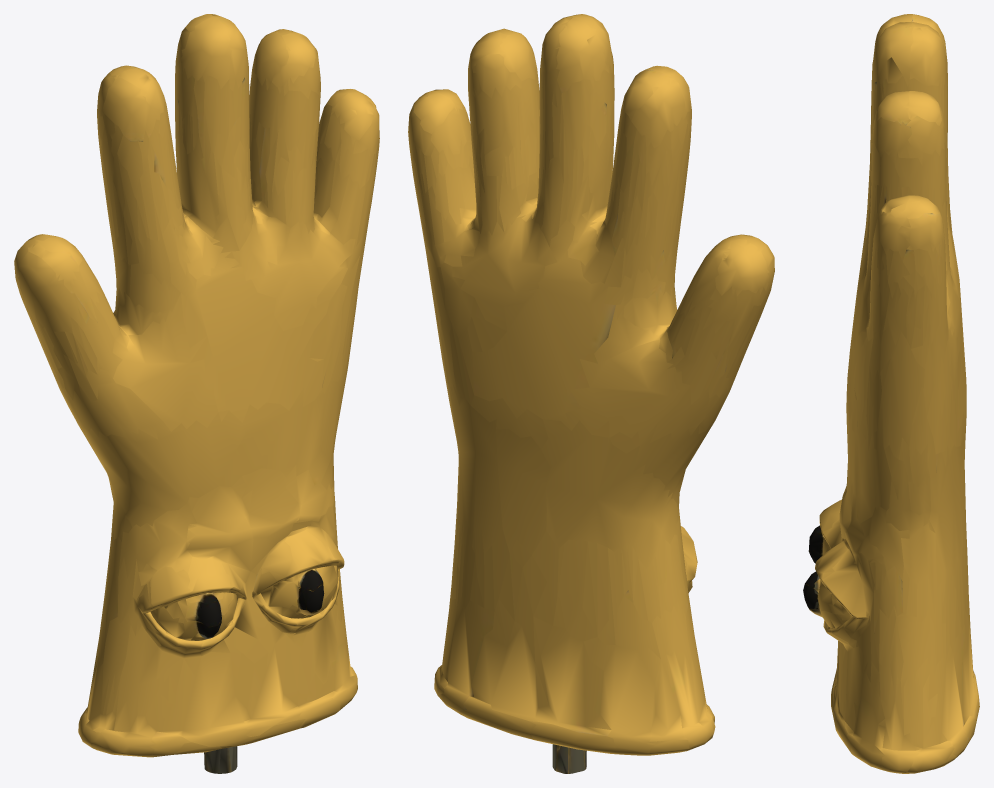
File: rubber_glove.glb
3 views of the same model, side by side, from view 1: azimuth 30°, elevation 25°; view 2: azimuth 150°, elevation 25°; view 3: azimuth 270°, elevation 25° (orthographic).
Bounding box in the file's own units: 0.9414 × 1.9 × 0.4137.
1 material, 1 textured.
